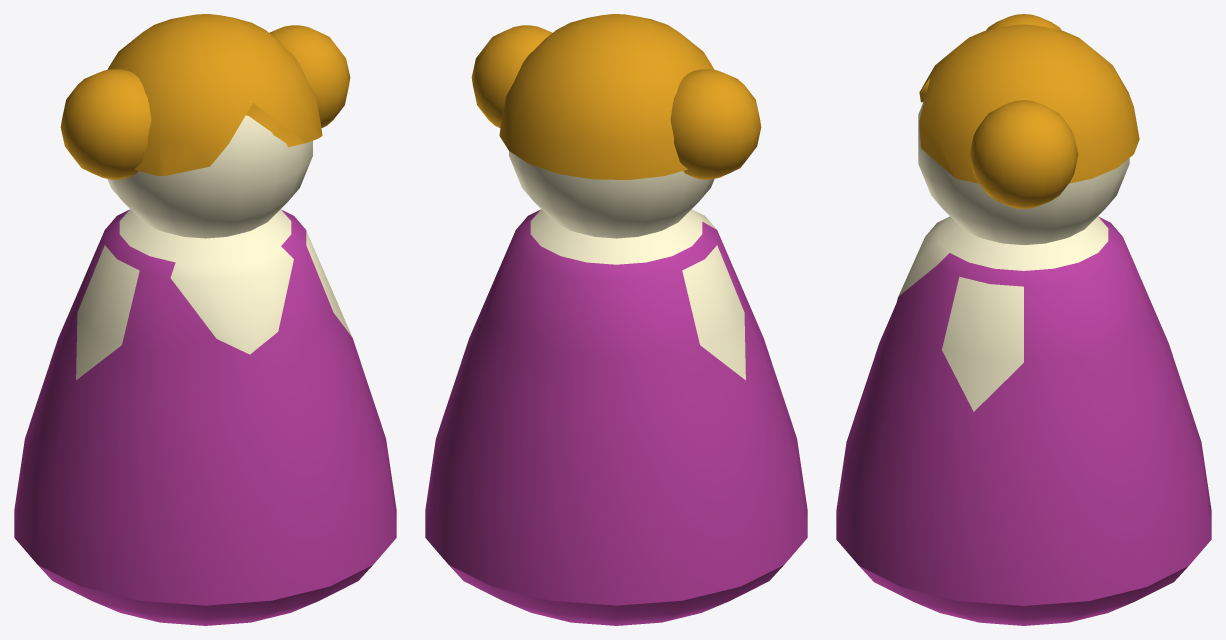
File: TG_NPC01.fbx
3 renders of one model, left to right at view 1: azimuth 30°, elevation 25°; view 2: azimuth 150°, elevation 25°; view 3: azimuth 270°, elevation 25°, orthographic.
Parts seen in each view (by area): view 1: 球体_1_2, 球体, 球体_2; view 2: 球体_1_2, 球体_2, 球体; view 3: 球体_1_2, 球体_2, 球体.
Boxes of the visible parts, x1,y1,x2,y2 form: 球体_1_2: (14,209,396,625); 球体: (60,25,350,238); 球体_2: (107,14,322,175); 球体_1_2: (425,209,807,625); 球体_2: (499,14,714,179); 球体: (471,25,761,238); 球体_1_2: (836,216,1211,625); 球体_2: (919,24,1139,183); 球体: (918,14,1129,245).
Size of the model in its own units: 56.06 by 87 by 55.21.
